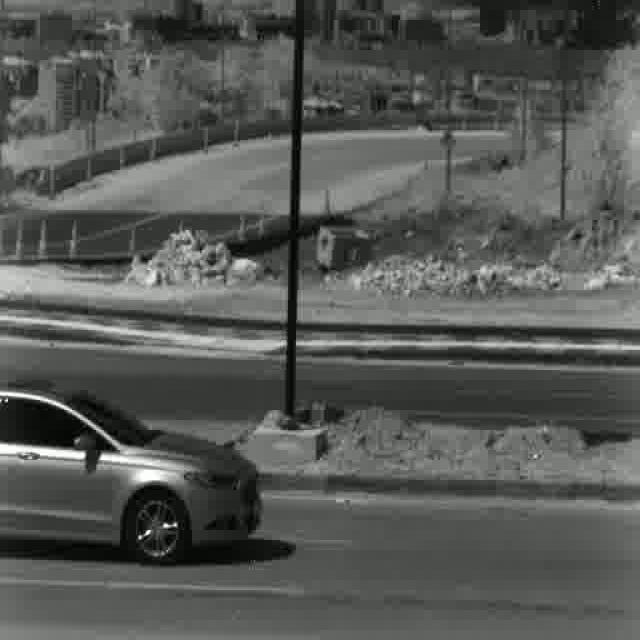Car: (0, 382, 263, 562)
